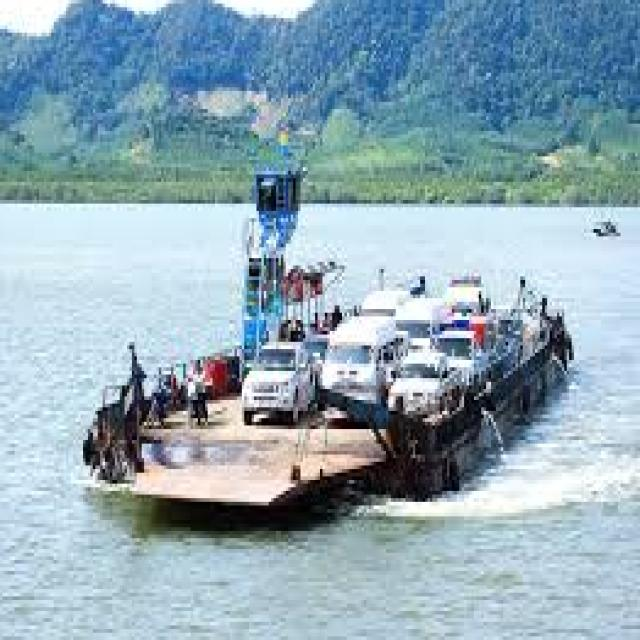cargoship: (99, 181, 564, 519)
